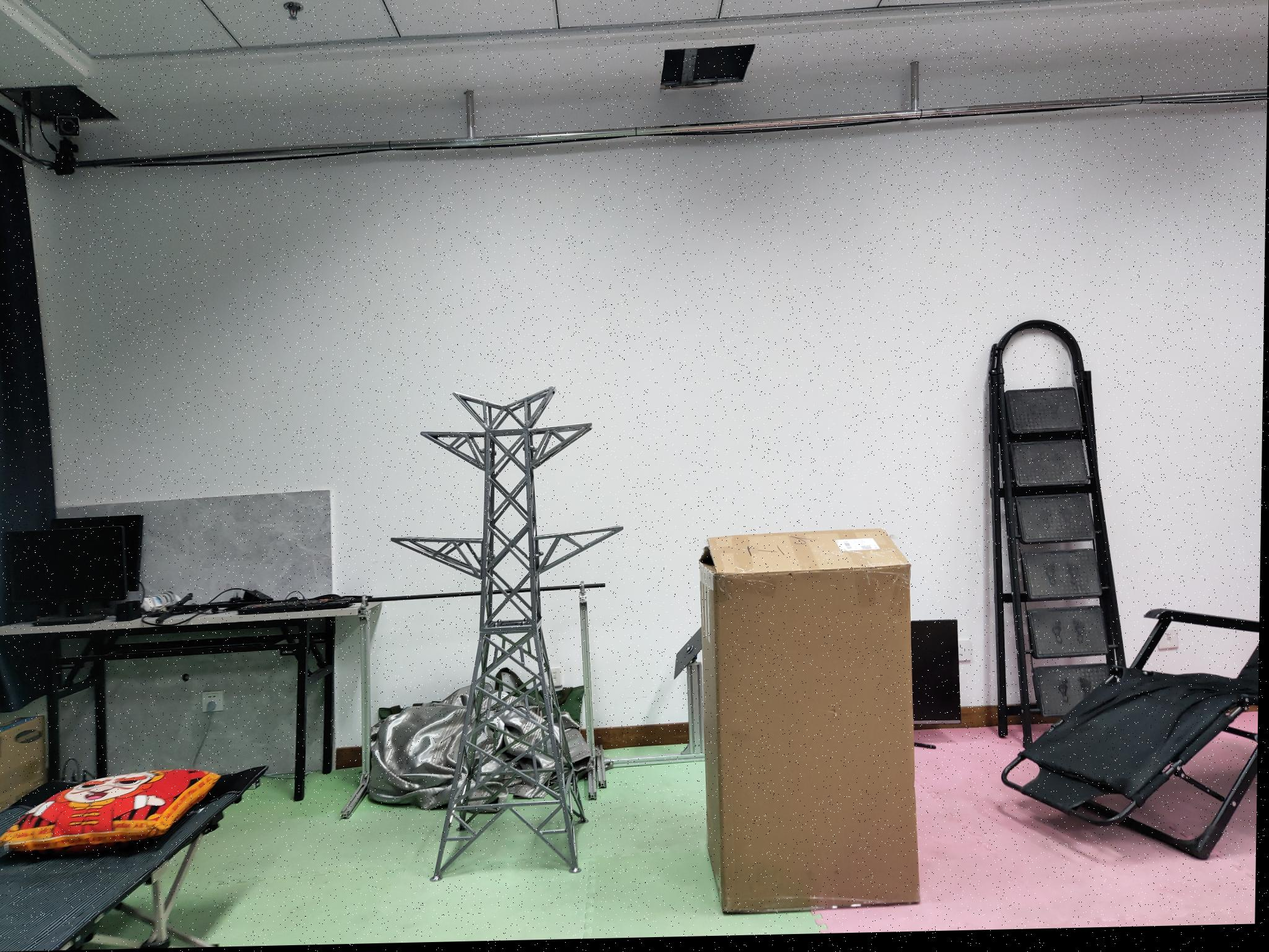tower: (394, 383, 624, 885)
